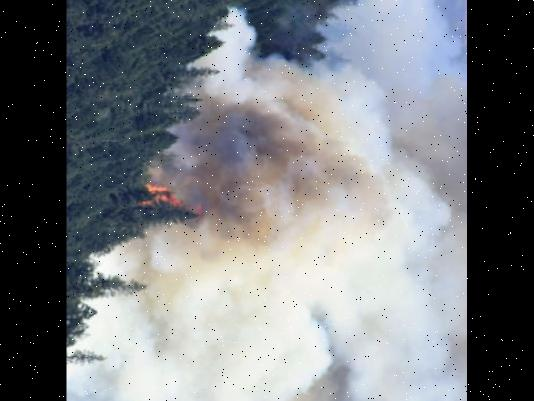fire: (137, 175, 203, 231)
